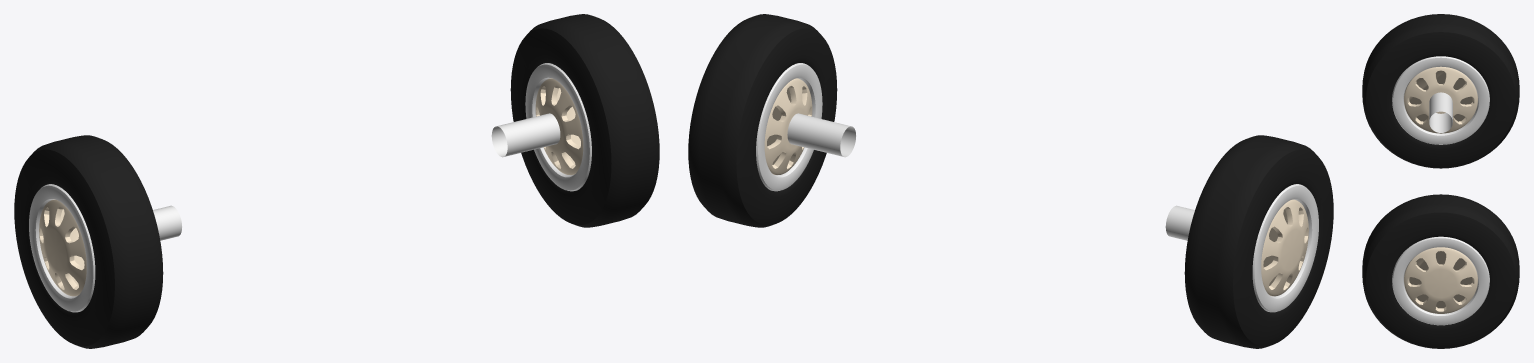
Rendered from wheel.glb.
3 views of the same model, side by side, from view 1: azimuth 30°, elevation 25°; view 2: azimuth 150°, elevation 25°; view 3: azimuth 270°, elevation 25° (orthographic). The views are drawn at different scales.
Visible parts, largest first — view 1: wheel; view 2: wheel; view 3: wheel.
Part boxes in pixels (bbox=[...]): wheel: bbox=[14, 14, 659, 348]; wheel: bbox=[688, 14, 1333, 348]; wheel: bbox=[1362, 14, 1519, 348].
Size of the model in its own units: 0.4255 by 0.1385 by 0.1385.
